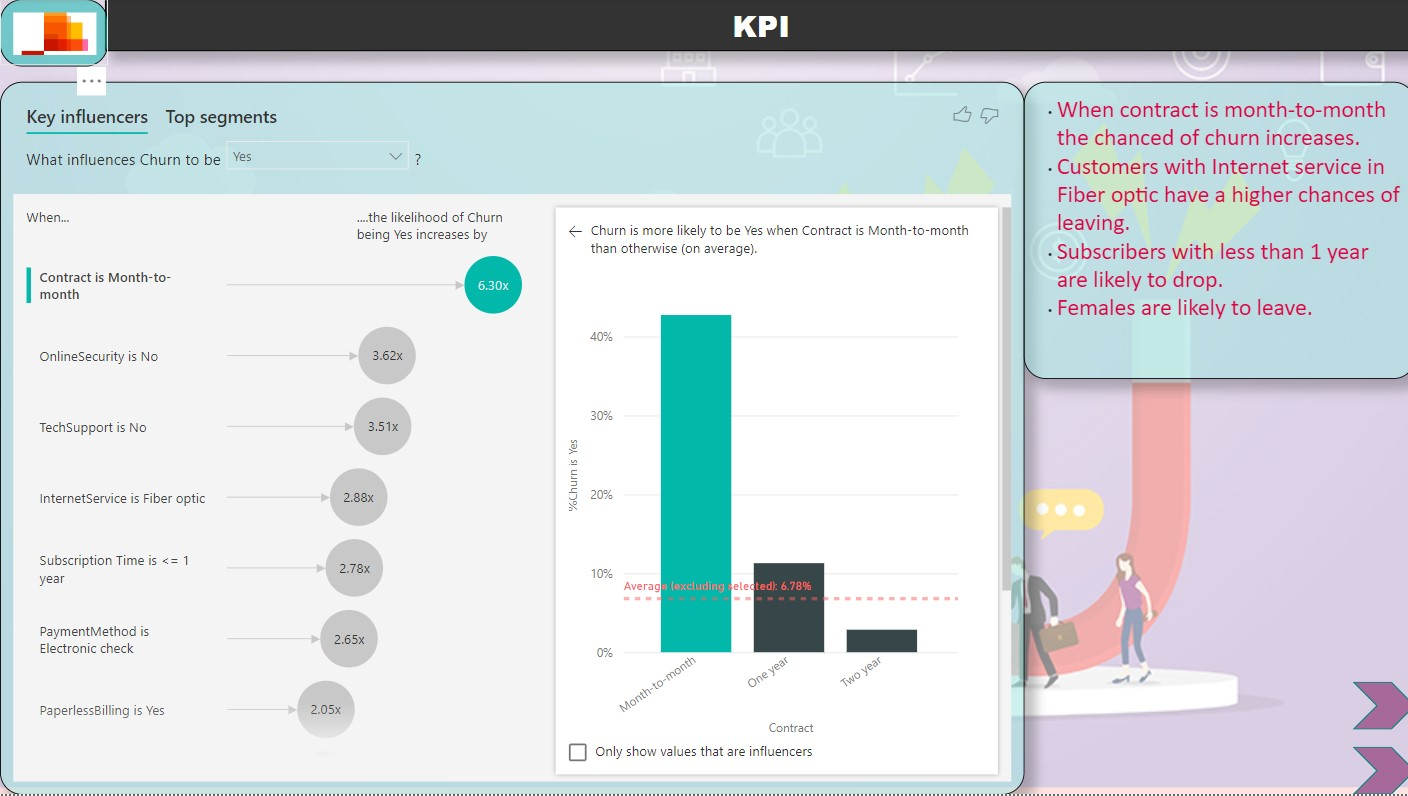

The dashboard page shown, as its layout file describes it:
{"tool":"powerbi","page":{"name":"Key Influencer","canvas":[1280,720],"ordinal":3},"visuals":[{"type":"keyDriversVisual","fields":{"Target":["01 Churn-Dataset.Churn"],"ExplainBy":["01 Churn-Dataset.Contract","01 Churn-Dataset.Partner","01 Churn-Dataset.PhoneService","01 Churn-Dataset.TechSupport","01 Churn-Dataset.Dependents","01 Churn-Dataset.SeniorCitizen","01 Churn-Dataset.gender","01 Churn-Dataset.InternetService","01 Churn-Dataset.OnlineSecurity","01 Churn-Dataset.PaymentMethod","01 Churn-Dataset.PaperlessBilling","01 Churn-Dataset.Subscription Time"]},"box":[0,75.5,926.1,644.9],"z":0},{"type":"textbox","box":[95.3,0,1185.2,47.6],"z":1000},{"type":"image","box":[0,1.2,97.6,60.4],"z":2000},{"type":"textbox","box":[926.1,75.5,354.4,268.4],"z":3000},{"type":"shape","box":[1223.5,677.4,56.9,43],"z":4000},{"type":"shape","box":[1223.5,618.2,56.9,43],"z":5000}]}

Visuals, with their boxes on the page's 1280x720 design canvas (x1, y1, x2, y2). These are canvas units, not pixel positions in the 1408x796 screenshot, which may show the page scaled, cropped or inside an application window:
keyDriversVisual - 01 Churn-Dataset.Churn x 01 Churn-Dataset.Contract: (x1=0, y1=76, x2=926, y2=720)
textbox: (x1=95, y1=0, x2=1280, y2=48)
image: (x1=0, y1=1, x2=98, y2=62)
textbox: (x1=926, y1=76, x2=1280, y2=344)
shape: (x1=1224, y1=677, x2=1280, y2=720)
shape: (x1=1224, y1=618, x2=1280, y2=661)
